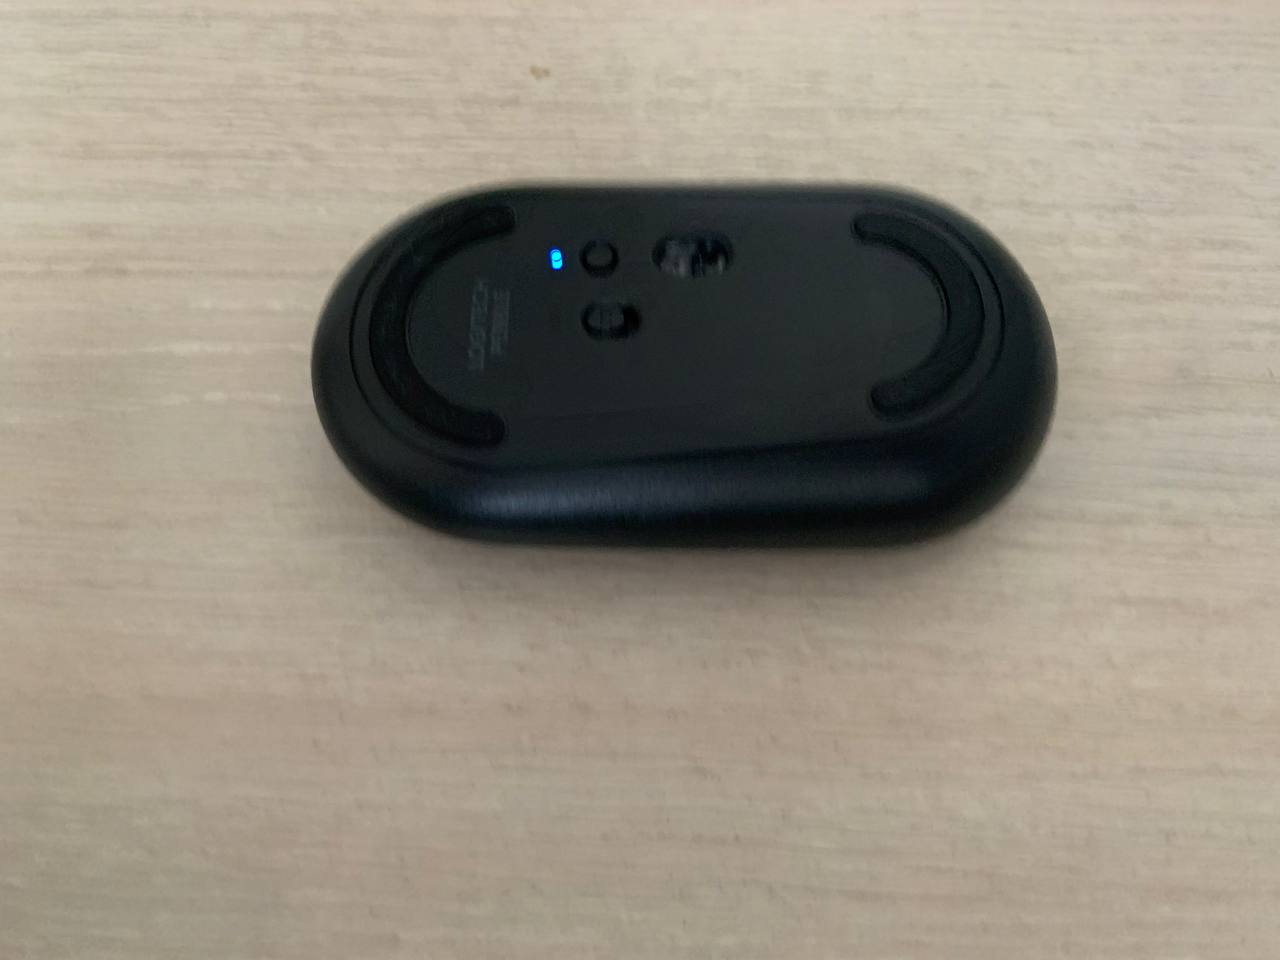mouse: (314, 186, 1055, 543)
